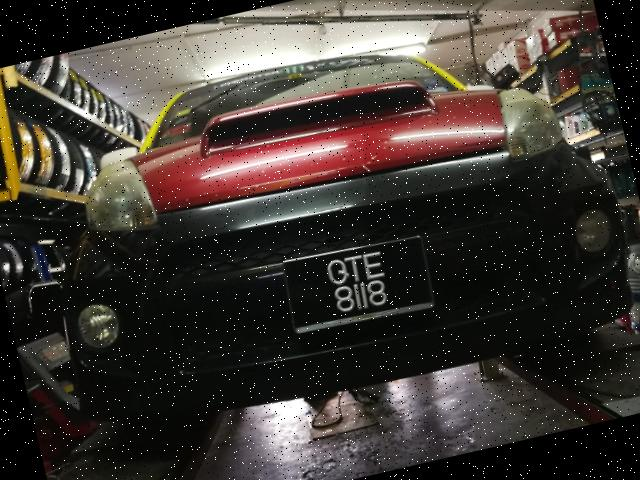License_Plate: (281, 230, 440, 341)
car: (11, 1, 640, 465)
